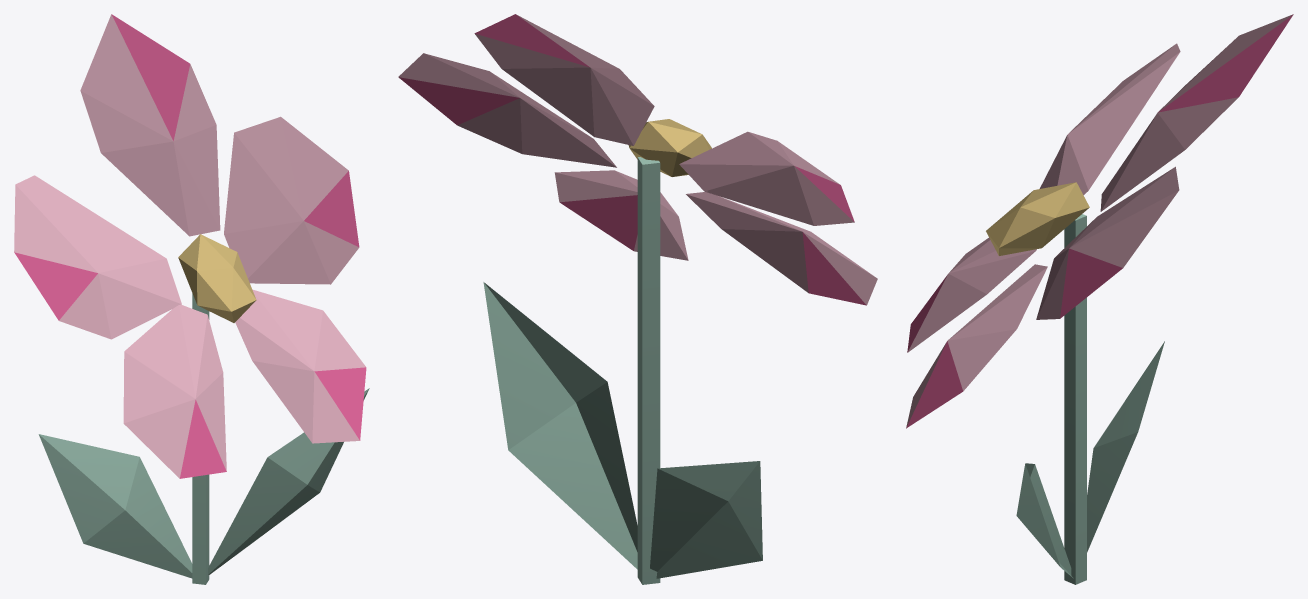
File: flower.glb
3 views of the same model, side by side, from view 1: azimuth 30°, elevation 25°; view 2: azimuth 150°, elevation 25°; view 3: azimuth 270°, elevation 25° (orthographic). The views are drawn at different scales.
Visible parts, largest first — view 1: root_mesh; view 2: root_mesh; view 3: root_mesh.
Boxes of the visible parts, box(x1,y1,x2,y2) form: root_mesh: box(14, 14, 369, 584); root_mesh: box(398, 14, 877, 584); root_mesh: box(906, 14, 1293, 584).
Bounding box in the file's own units: 0.2118 × 0.3 × 0.1853.
